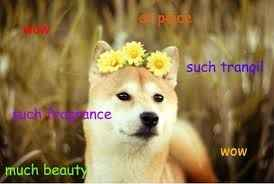doge: (94, 70, 173, 149)
